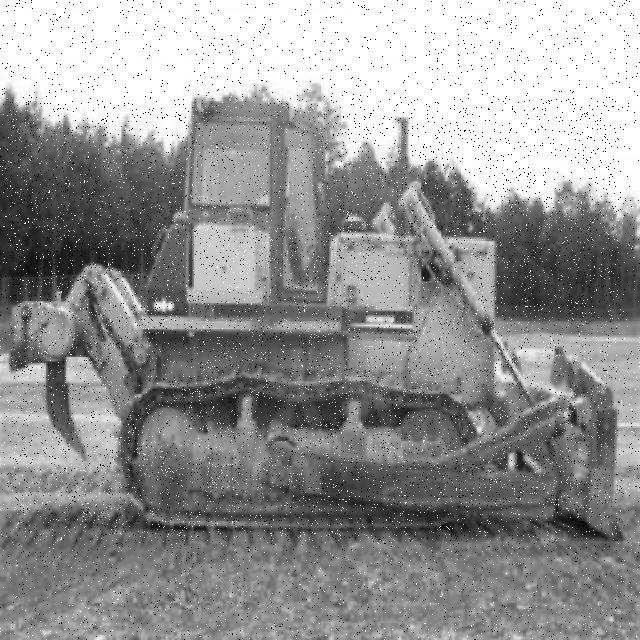Construction Equipment: (10, 99, 620, 541)
